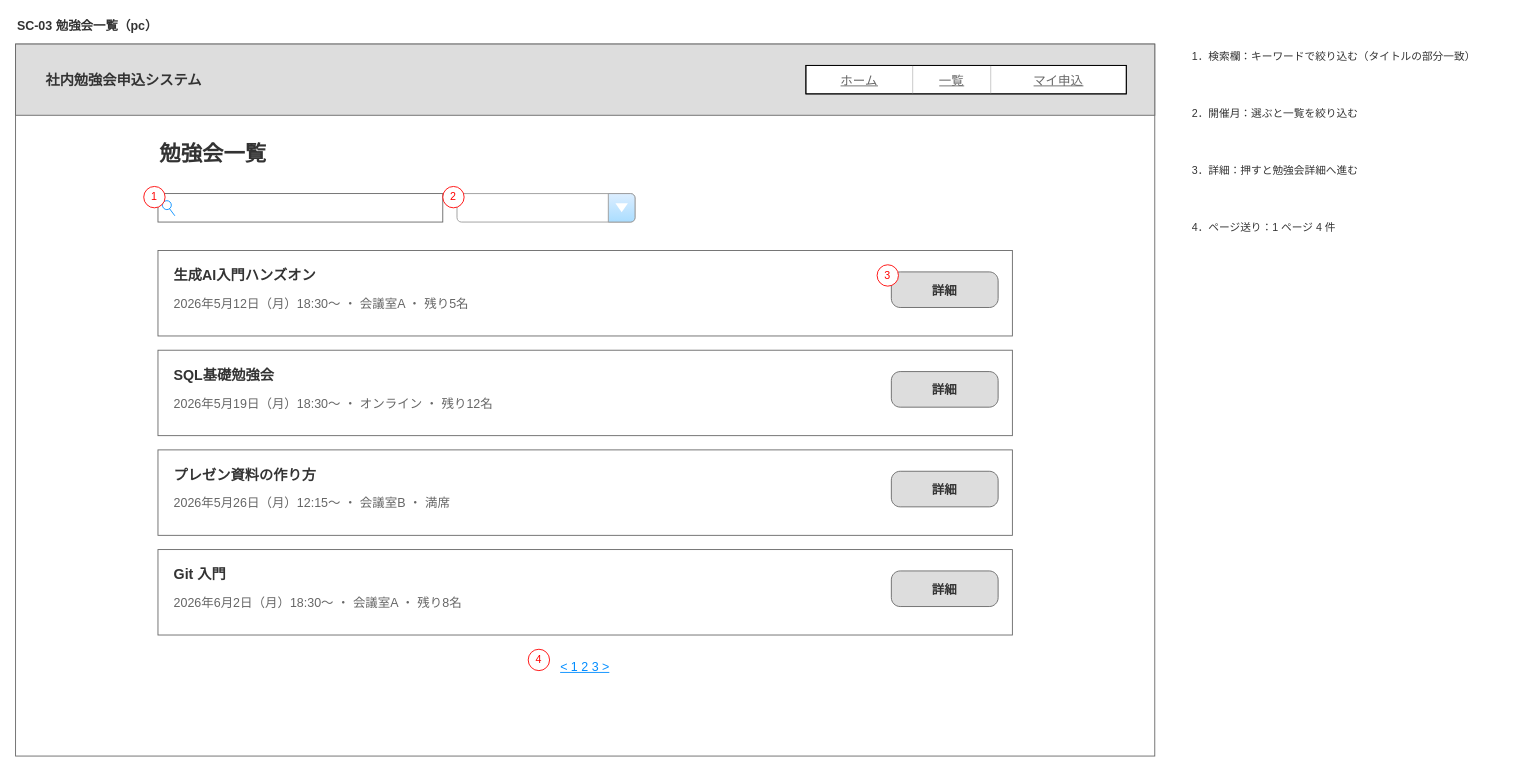
This 1526x772 diagram has some shape labels left out. The centre of each missing label's shape, as x and y in pixels:
すべての開催月: (x=545, y=207)
キーワード: (x=300, y=207)
